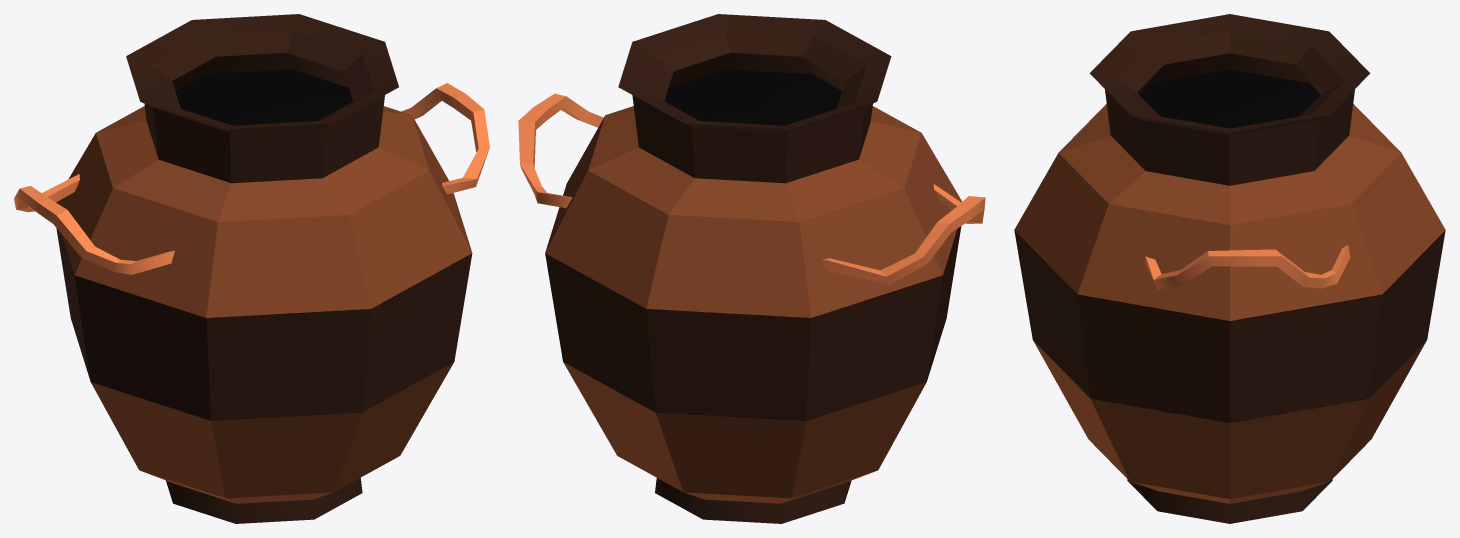
File: Broken Pot.fbx
The picture shows the model from 3 angles, left to right: view 1: azimuth 30°, elevation 25°; view 2: azimuth 150°, elevation 25°; view 3: azimuth 270°, elevation 25°; orthographic projection.
Visible parts, largest first — view 1: Object001, Cylinder004, Object002; view 2: Object001, Cylinder004, Object002; view 3: Cylinder004, Object001, Object002.
Part boxes in pixels (<box>): Object001: <box>14,14,425,333</box>; Cylinder004: <box>56,83,489,454</box>; Object002: <box>101,400,415,523</box>; Object001: <box>592,14,985,333</box>; Cylinder004: <box>518,93,961,454</box>; Object002: <box>602,400,916,523</box>; Cylinder004: <box>1014,193,1445,482</box>; Object001: <box>1035,14,1424,202</box>; Object002: <box>1062,393,1397,523</box>.
Bounding box in the file's own units: 18.76 × 16.99 × 16.32.
3 materials, 3 textured.
